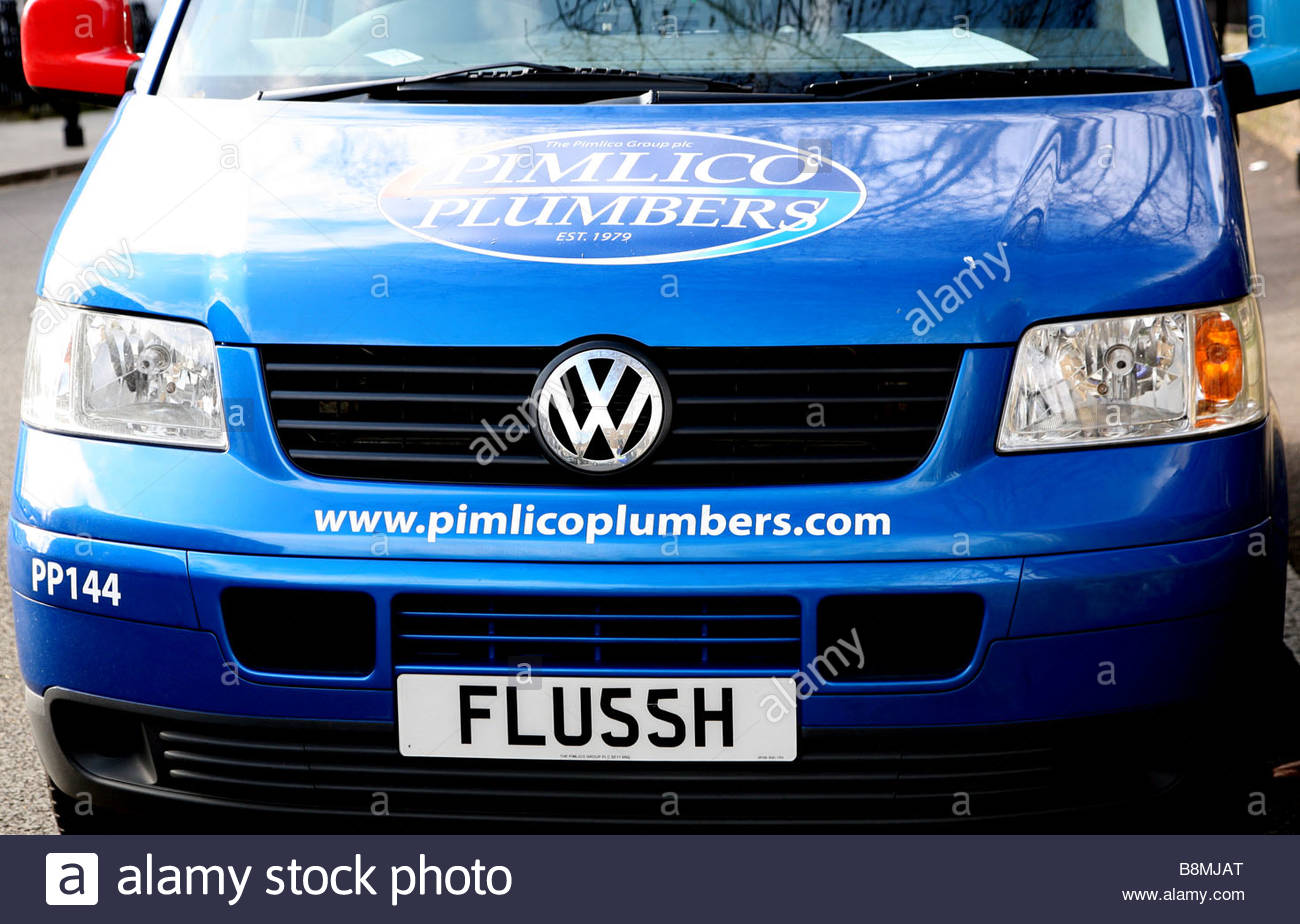number_plate: (396, 673, 799, 783)
